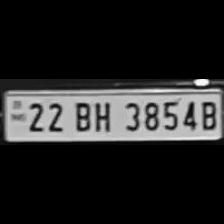2: (44, 99, 66, 133), (23, 99, 44, 133)
3: (119, 98, 141, 132)
4: (180, 97, 196, 130)
5: (159, 97, 179, 131)
8: (140, 98, 160, 132)
B: (70, 100, 92, 132), (196, 98, 218, 130)
H: (91, 98, 115, 132)
